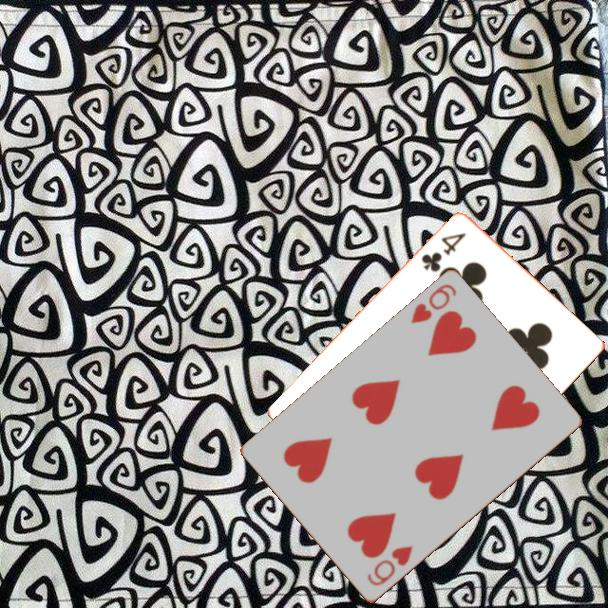c04: (418, 230, 469, 275)
h06: (364, 542, 416, 590), (407, 281, 459, 327)
